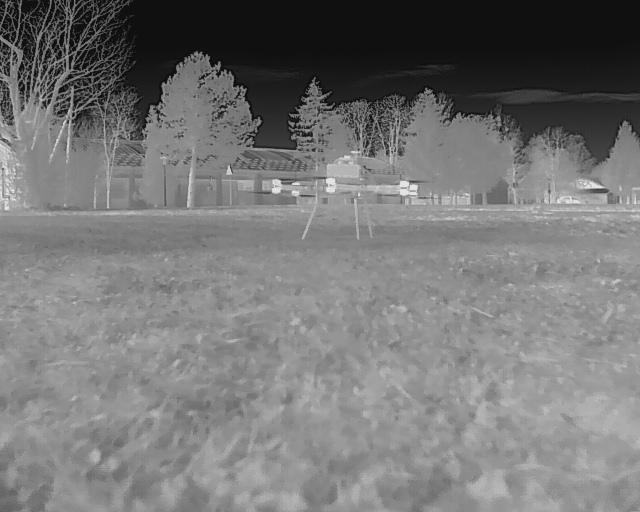drone: (254, 152, 422, 246)
